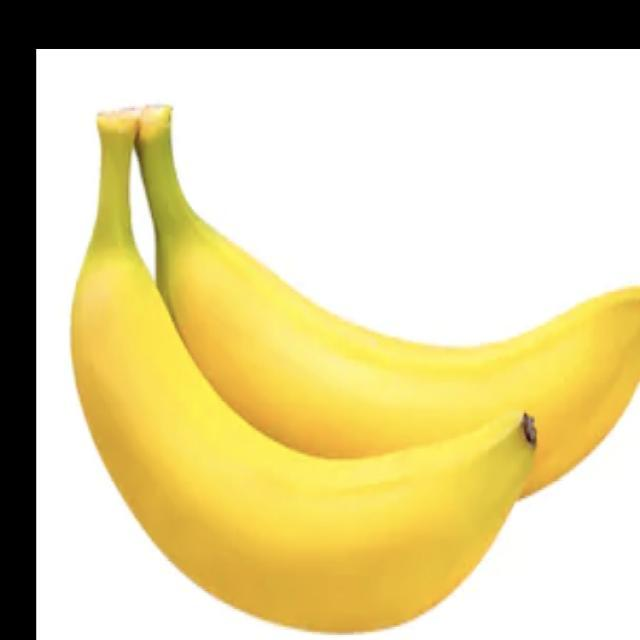Banana: (67, 102, 640, 637)
